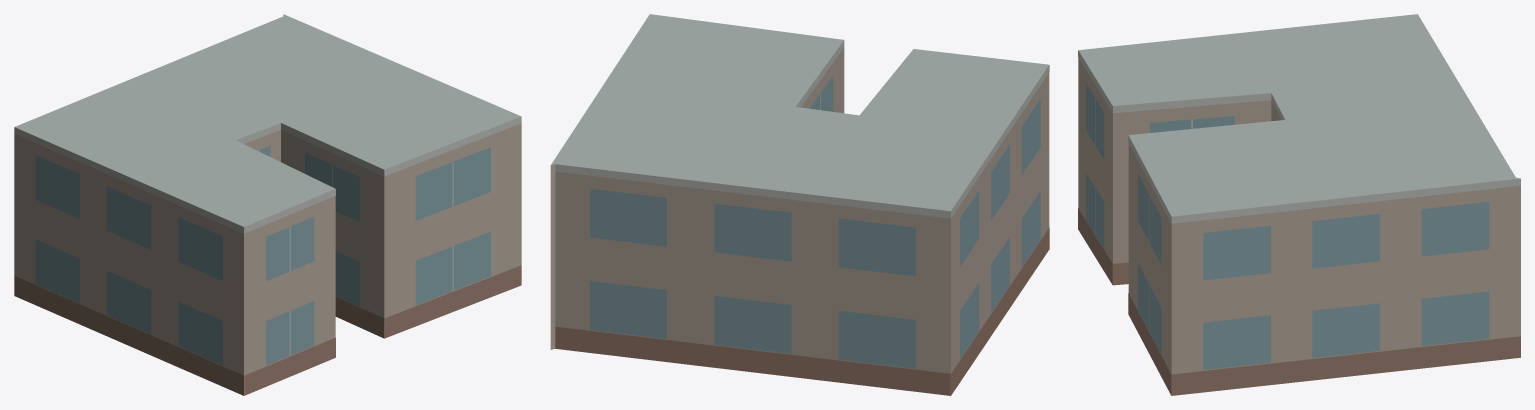
The model's file is survey-upis-33036234.glb.
The picture shows the model from 3 angles, left to right: view 1: azimuth 30°, elevation 25°; view 2: azimuth 150°, elevation 25°; view 3: azimuth 270°, elevation 25°; orthographic projection. The views are drawn at different scales.
Visible parts, largest first — view 1: survey-upis-33036234.tmp; view 2: survey-upis-33036234.tmp; view 3: survey-upis-33036234.tmp.
Part boxes in pixels (x1=…): survey-upis-33036234.tmp: x1=14, y1=14, x2=521, y2=395; survey-upis-33036234.tmp: x1=550, y1=14, x2=1049, y2=395; survey-upis-33036234.tmp: x1=1078, y1=14, x2=1520, y2=395.
Bounding box in the file's own units: 14.81 × 6.1 × 13.66.
